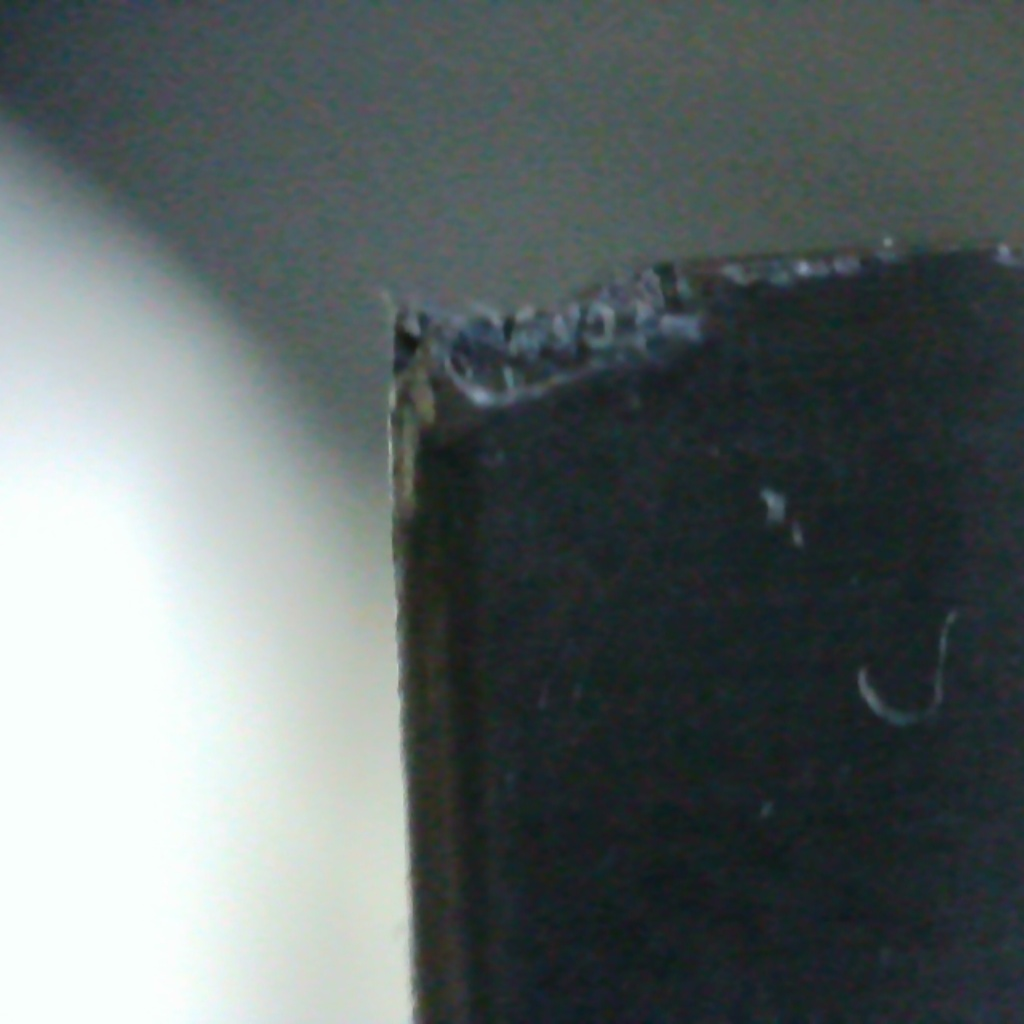flank_wear: (386, 276, 679, 403)
